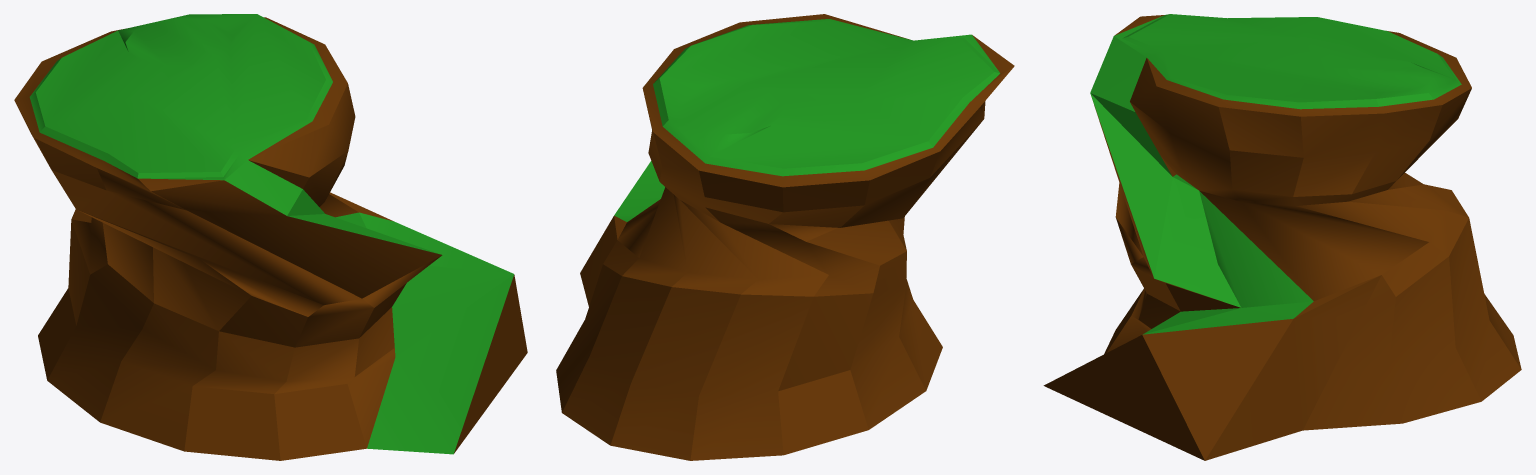
Rendered from Bluff_Grass_03.fbx.
3 views of the same model, side by side, from view 1: azimuth 30°, elevation 25°; view 2: azimuth 150°, elevation 25°; view 3: azimuth 270°, elevation 25° (orthographic). The views are drawn at different scales.
Parts seen in each view (by area): view 1: Model; view 2: Model; view 3: Model.
Boxes of the visible parts, <box> form: Model: <box>14,14,527,460</box>; Model: <box>556,14,1014,460</box>; Model: <box>1043,14,1521,460</box>.
Size of the model in its own units: 3632 by 2517 by 3834.
